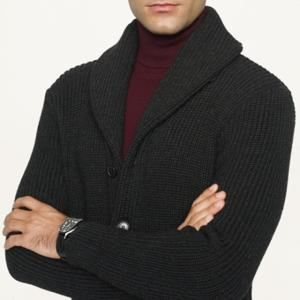C_cardigan sweater: (4, 21, 295, 300)
